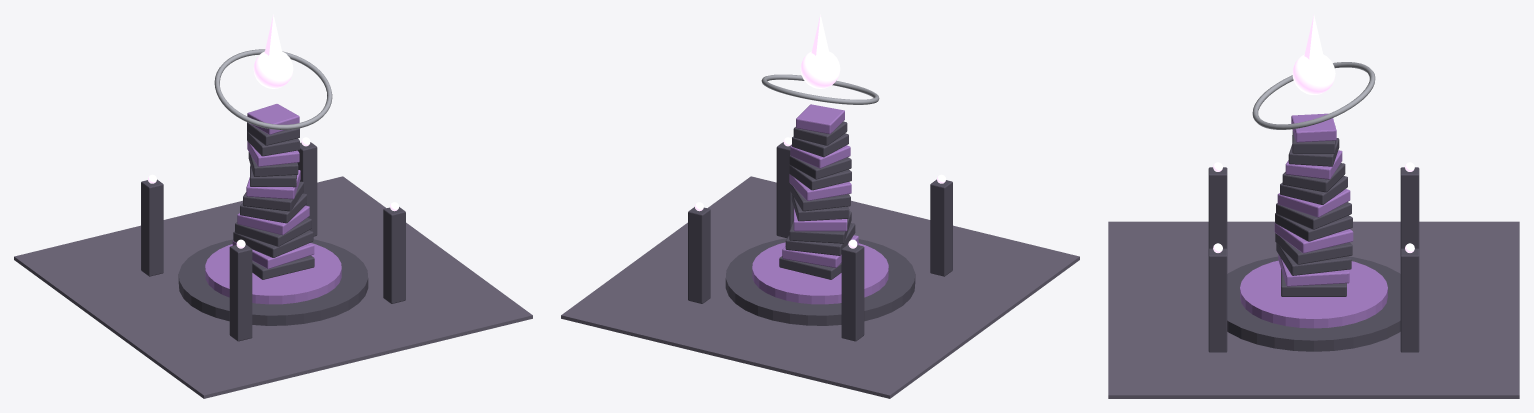
Rendered from special.glb.
The picture shows the model from 3 angles, left to right: view 1: azimuth 30°, elevation 25°; view 2: azimuth 150°, elevation 25°; view 3: azimuth 270°, elevation 25°; orthographic projection. The views are drawn at different scales.
Visible parts, largest first — view 1: Ground, Dais, Dais2, Monolith2, Monolith1, Monolith3, Ring, Monolith0, Core, Twist2, Twist3, Twist13 (+11 smaller); view 2: Ground, Dais, Dais2, Monolith1, Monolith0, Monolith2, Monolith3, Ring, Core, Twist13, Twist2, Twist3 (+11 smaller); view 3: Ground, Dais, Dais2, Monolith0, Monolith3, Monolith1, Monolith2, Ring, Core, Twist4, Twist3, Twist13 (+12 smaller).
Part boxes in pixels (x1,y1,x2,y2): Ground: (14,176,532,398); Dais: (178,239,368,325); Dais2: (205,243,341,304); Monolith2: (229,244,252,341); Monolith1: (141,179,163,276); Monolith3: (383,207,405,303); Ring: (214,49,332,129); Monolith0: (297,142,317,236); Core: (253,51,293,88); Twist2: (233,230,313,257); Twist3: (235,218,311,246); Twist13: (247,104,299,134); Ground: (561,176,1079,398); Dais: (725,238,915,325); Dais2: (752,242,888,304); Monolith1: (841,244,864,341); Monolith0: (688,207,710,303); Monolith2: (930,179,952,276); Monolith3: (776,142,793,237); Ring: (761,74,879,104); Core: (800,51,840,88); Twist13: (796,104,844,134); Twist2: (785,223,855,255); Twist3: (789,211,851,243); Ground: (1108,221,1519,398); Dais: (1227,256,1400,351); Dais2: (1240,260,1387,328); Monolith0: (1400,248,1419,352); Monolith3: (1208,248,1227,352); Monolith1: (1400,167,1419,248); Monolith2: (1208,167,1227,248); Ring: (1252,62,1375,129); Core: (1292,54,1335,94); Twist4: (1274,223,1353,253); Twist3: (1275,233,1352,264); Twist13: (1291,113,1336,142).
Bounding box in the file's own units: 20 × 16 × 20.
